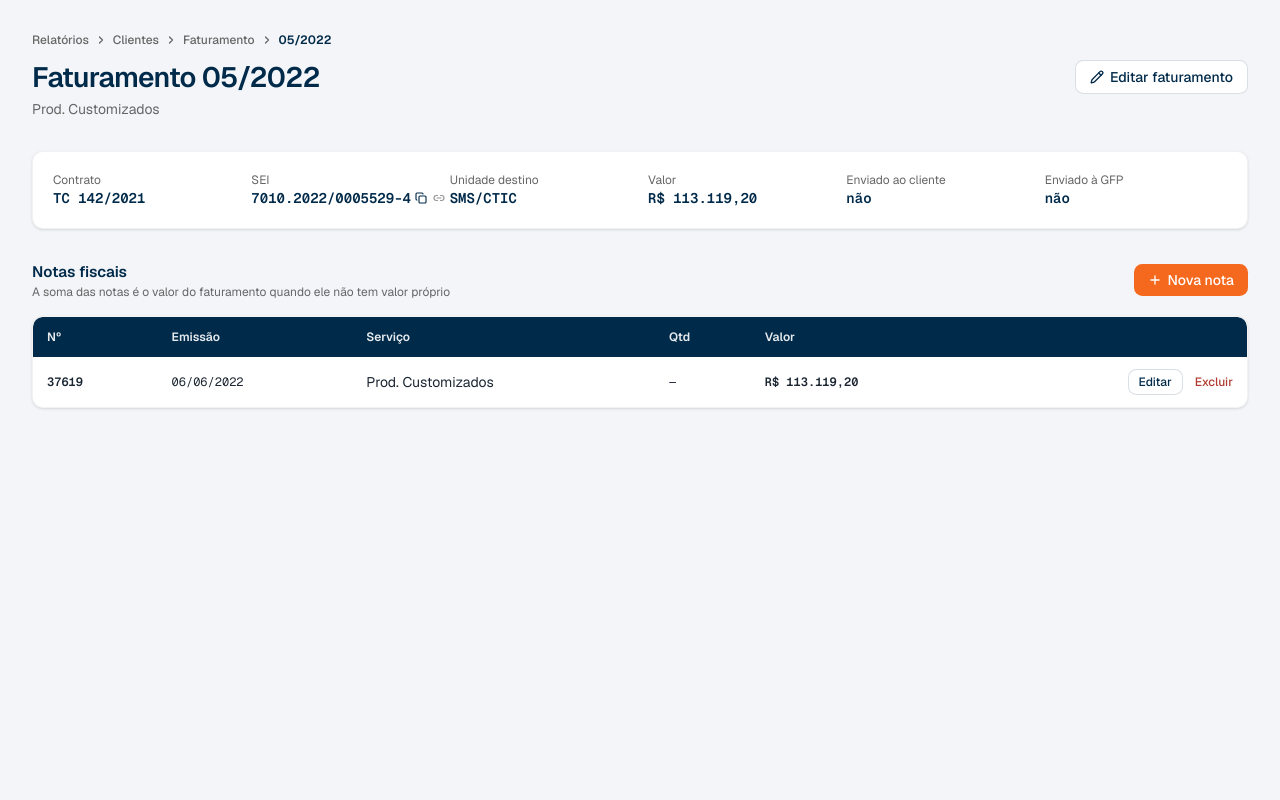
Test: FaturamentoDetalhePage › cadastra uma nota fiscal
Click the button "Nova nota" at point(1191, 280), box [1134,264,1248,296]
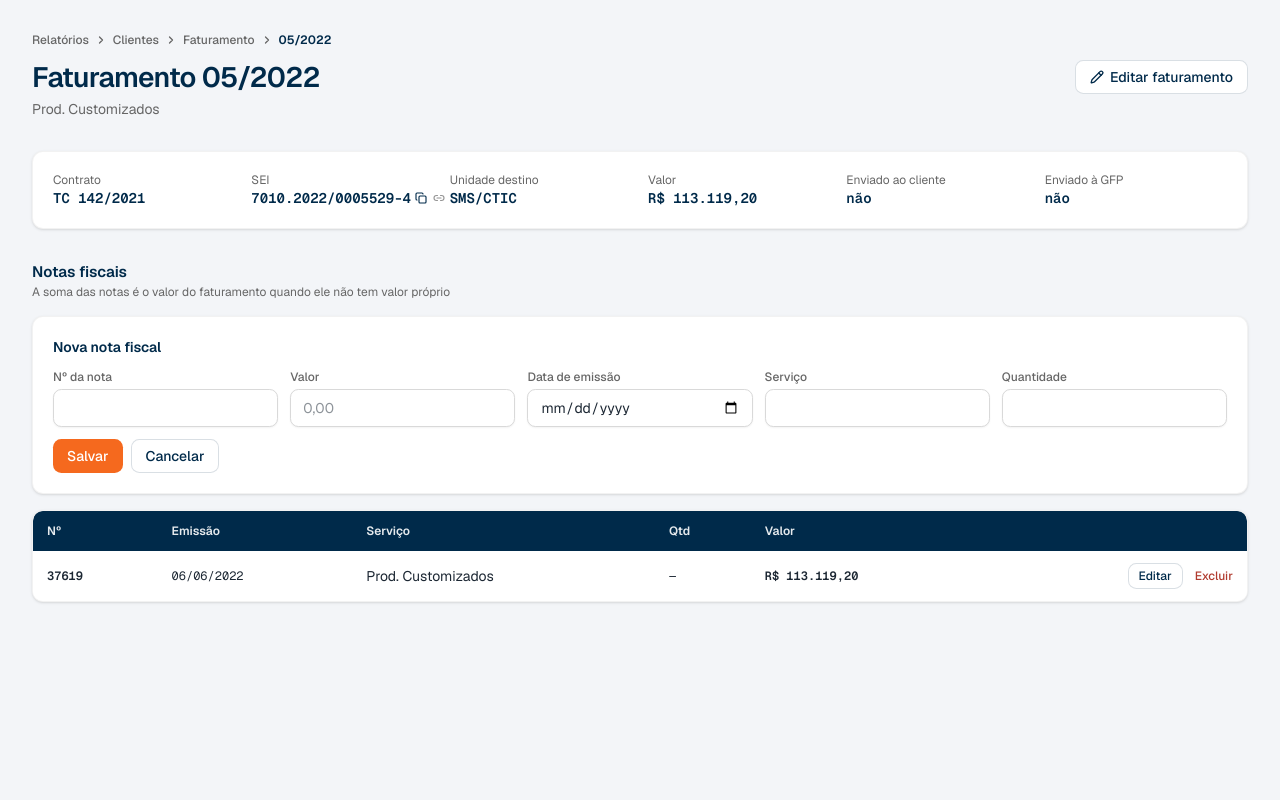
Type "40001" into the field labelled "Nº da nota" at point(166, 408), box [53,389,278,427]
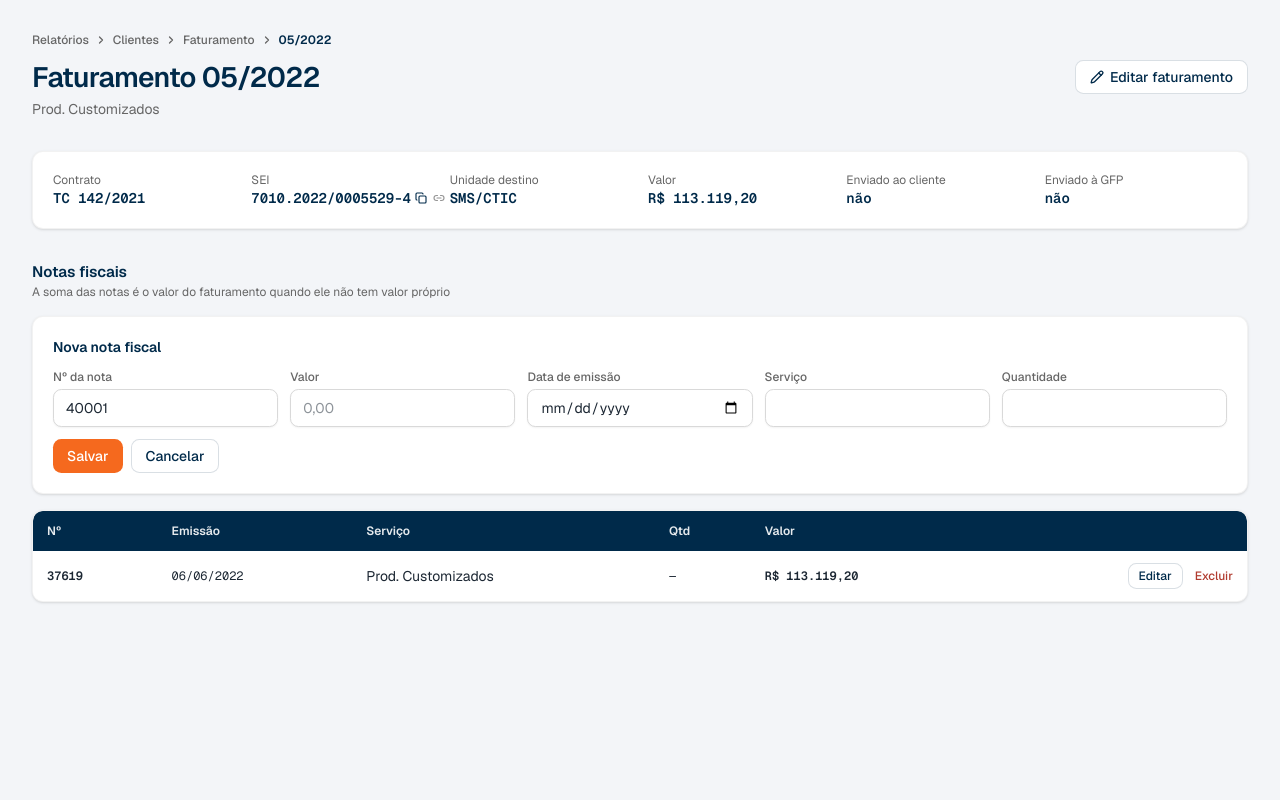
Type "1.000,00" into the field labelled "Valor" at point(403, 408), box [290,389,515,427]
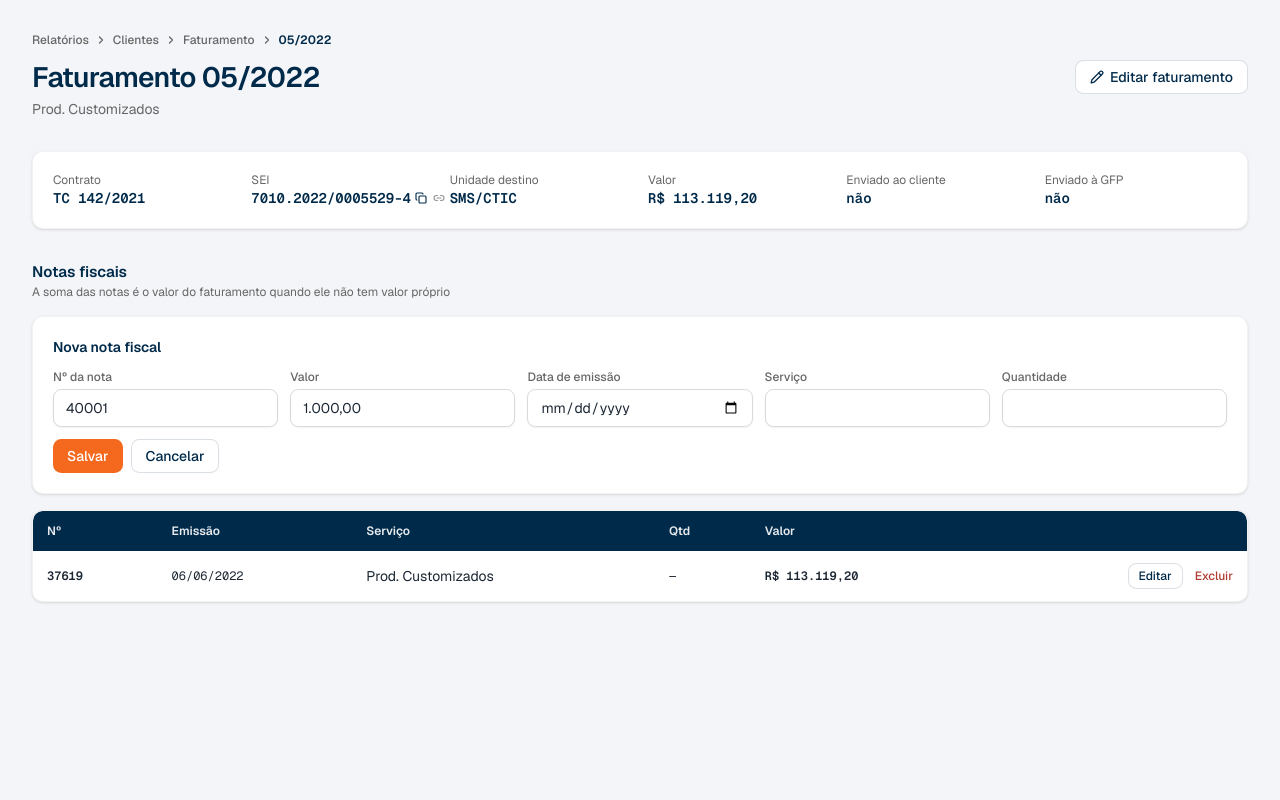
Click the button "Salvar" at point(88, 456), box [53,439,122,473]
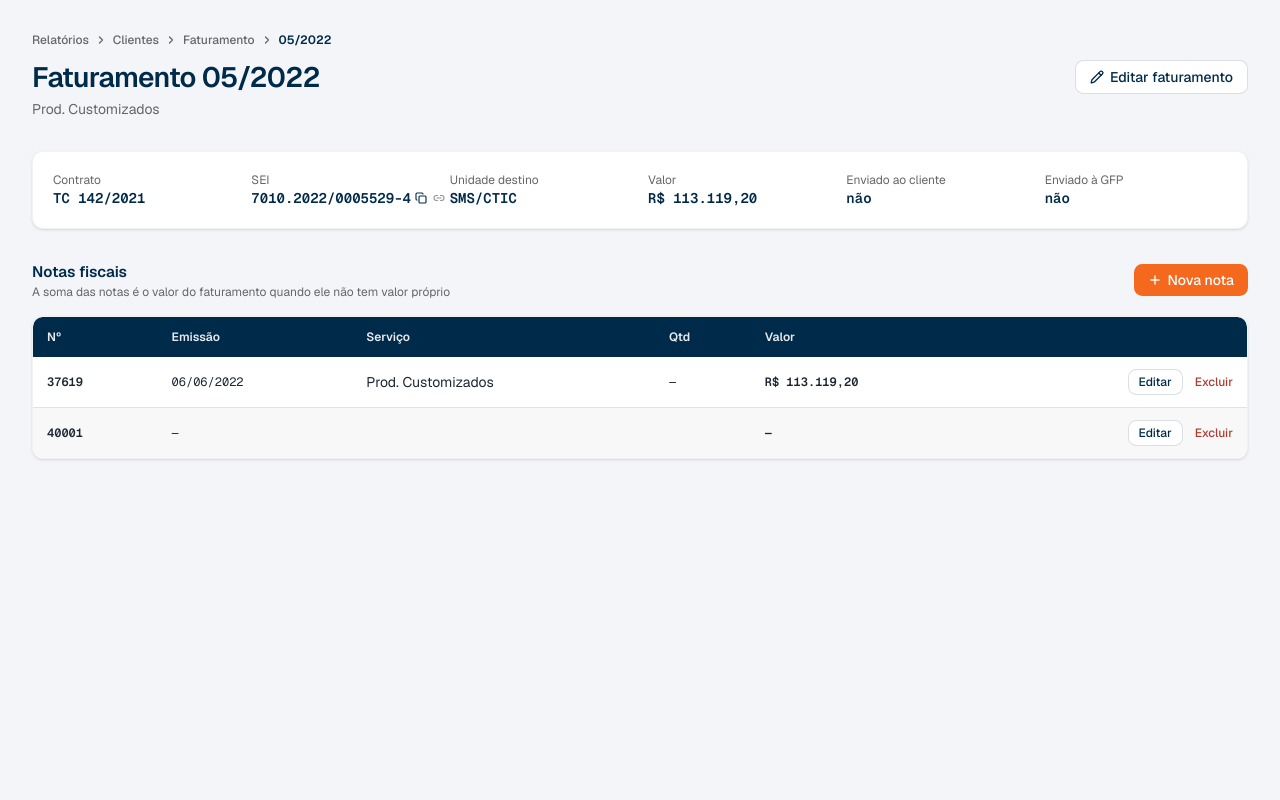
Now the text "40001" is shown, box [33,407,158,458]
